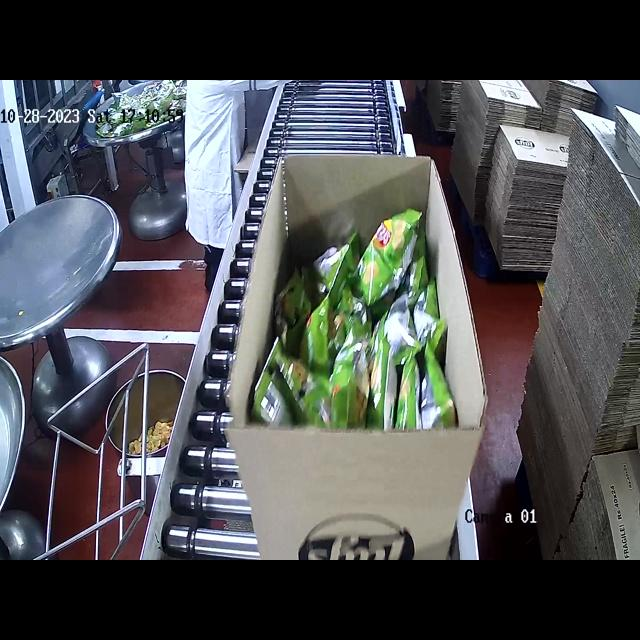yogurt: (250, 206, 456, 431)
